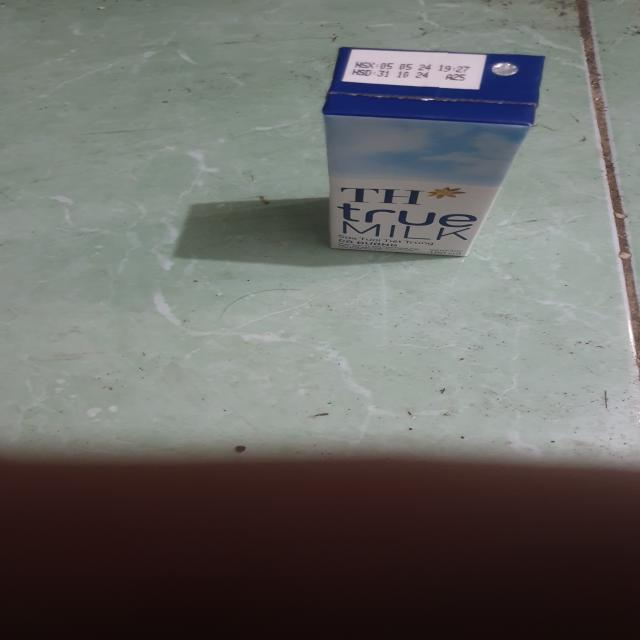TH: (323, 49, 547, 259)
